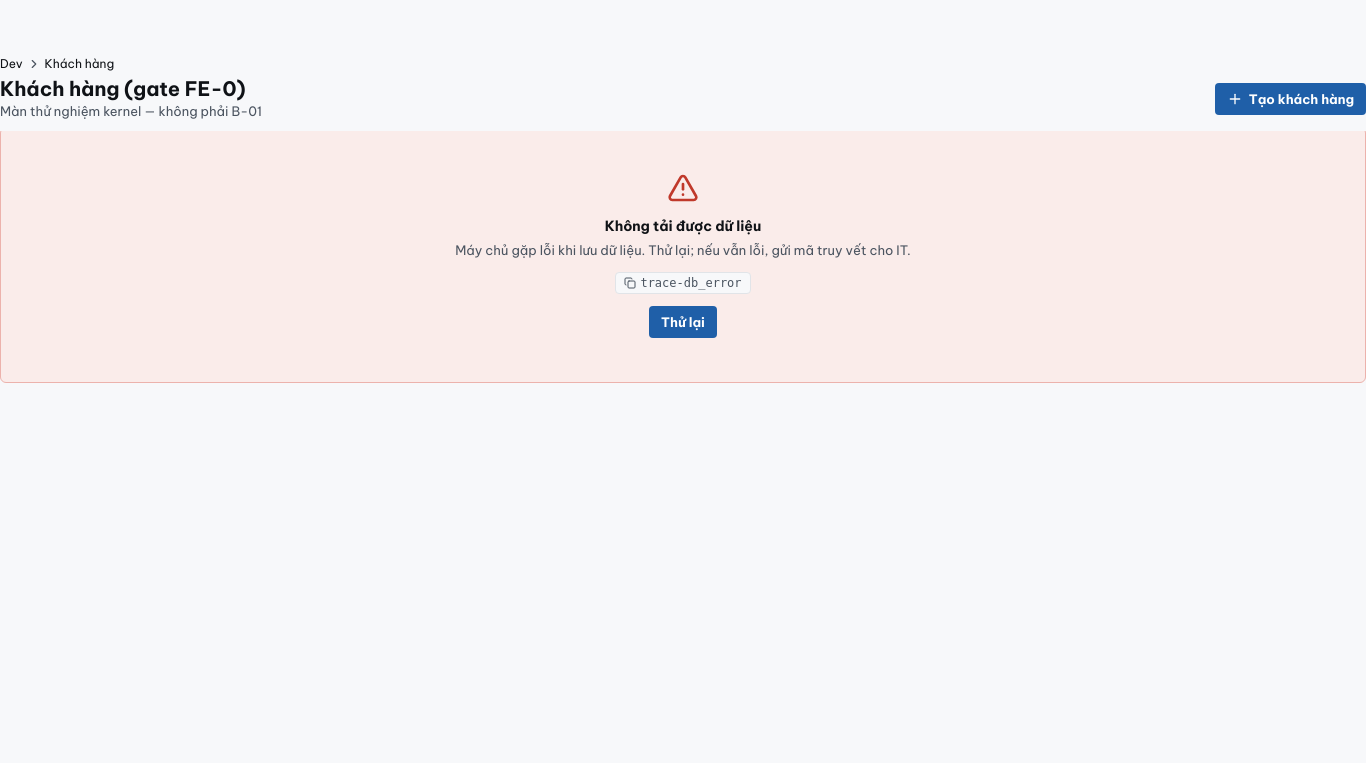
Test: CustomerListGate (kernel gate, MSW) › error 500: ErrorState có traceId + thử lại → refetch
Check: the message is shown, box left=0, top=127, right=1365, bottom=383
Check: the button "trace-db_error" is shown, box left=615, top=272, right=751, bottom=294
Click the button "Thử lại" at (683, 322), box left=649, top=306, right=717, bottom=338
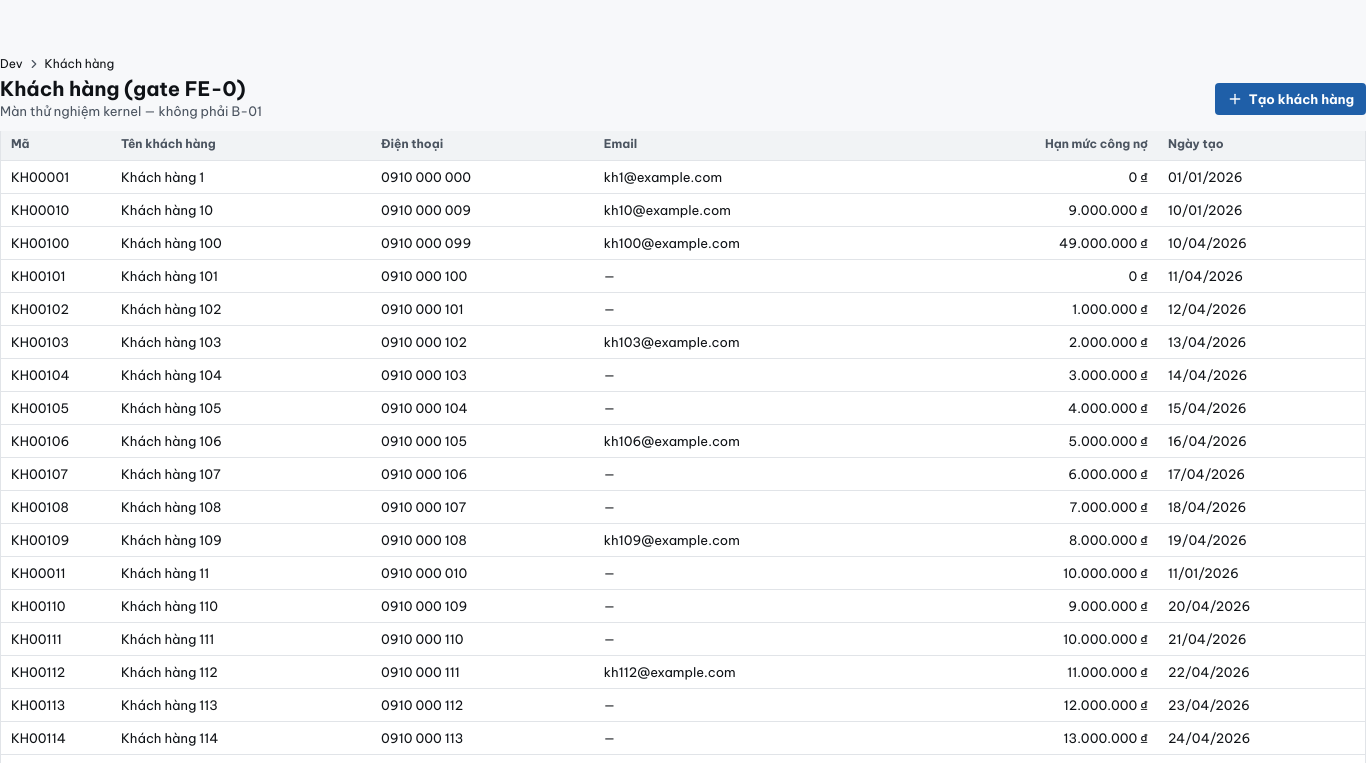
Check: the text "Khách hàng 1" is shown, box left=111, top=160, right=371, bottom=193
